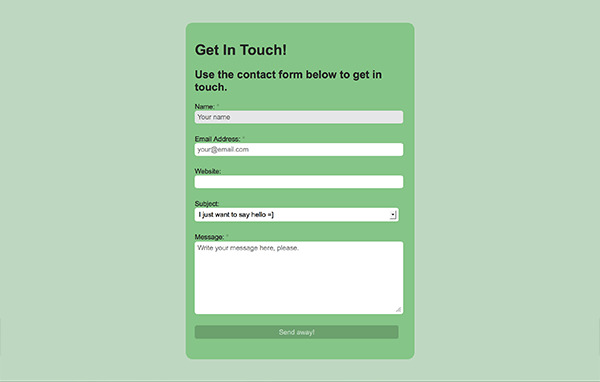_form_: (89, 1, 505, 382)
button: (193, 324, 400, 340)
field: (192, 239, 404, 315), (193, 108, 406, 125), (192, 174, 405, 191), (192, 141, 404, 158)
field_with_label: (191, 233, 407, 316), (190, 166, 407, 193), (192, 102, 408, 127), (191, 134, 406, 159), (192, 200, 403, 225)
select: (194, 206, 401, 223)
